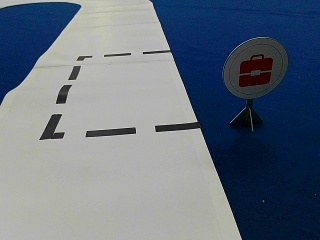company: (223, 37, 288, 98)
